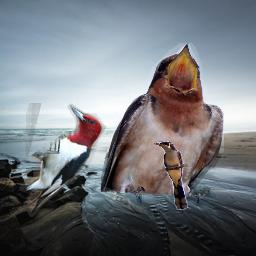Cuckoo: (154, 141, 188, 210)
Swallow: (101, 43, 224, 206)
Woodpecker: (18, 103, 108, 217)
